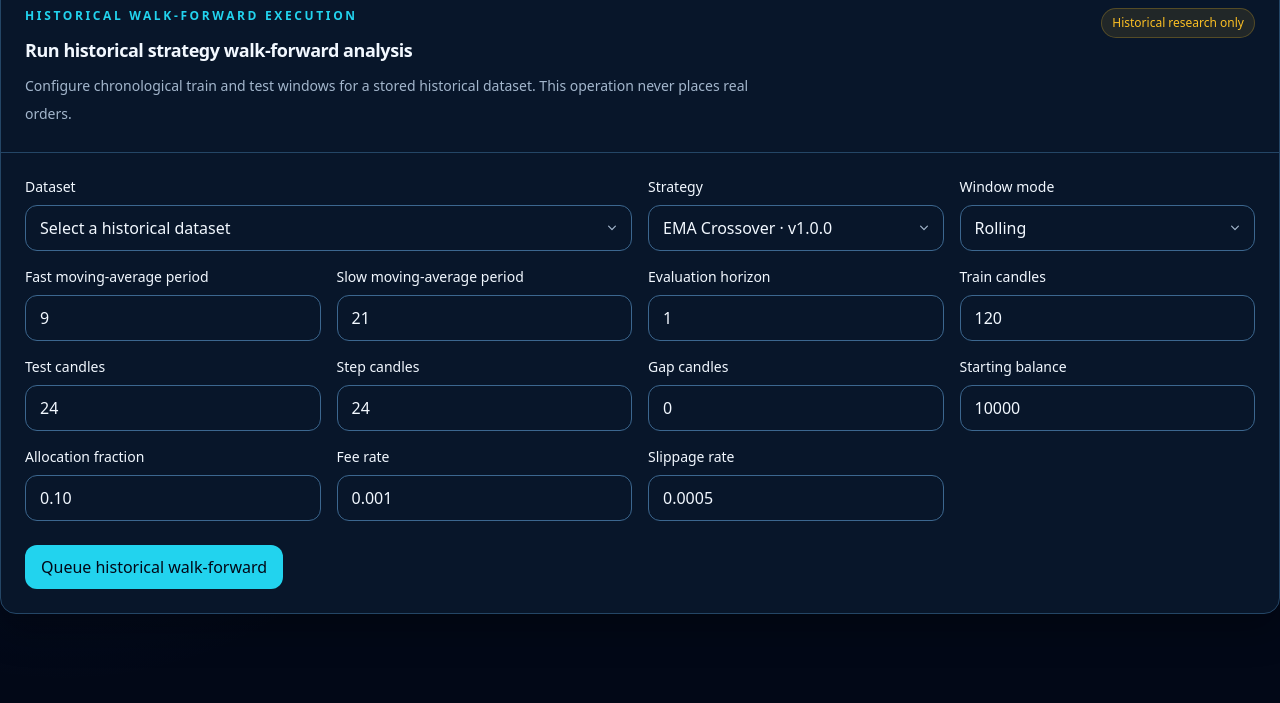
Scenario: WalkForwardRunForm › shows a safe message when the selected dataset no longer exists
Select "BTC historical dataset · BTC/USDT · 1h" in the dropdown labelled "Dataset" at (328, 228), box [25,205,632,251]
(page scrolled)
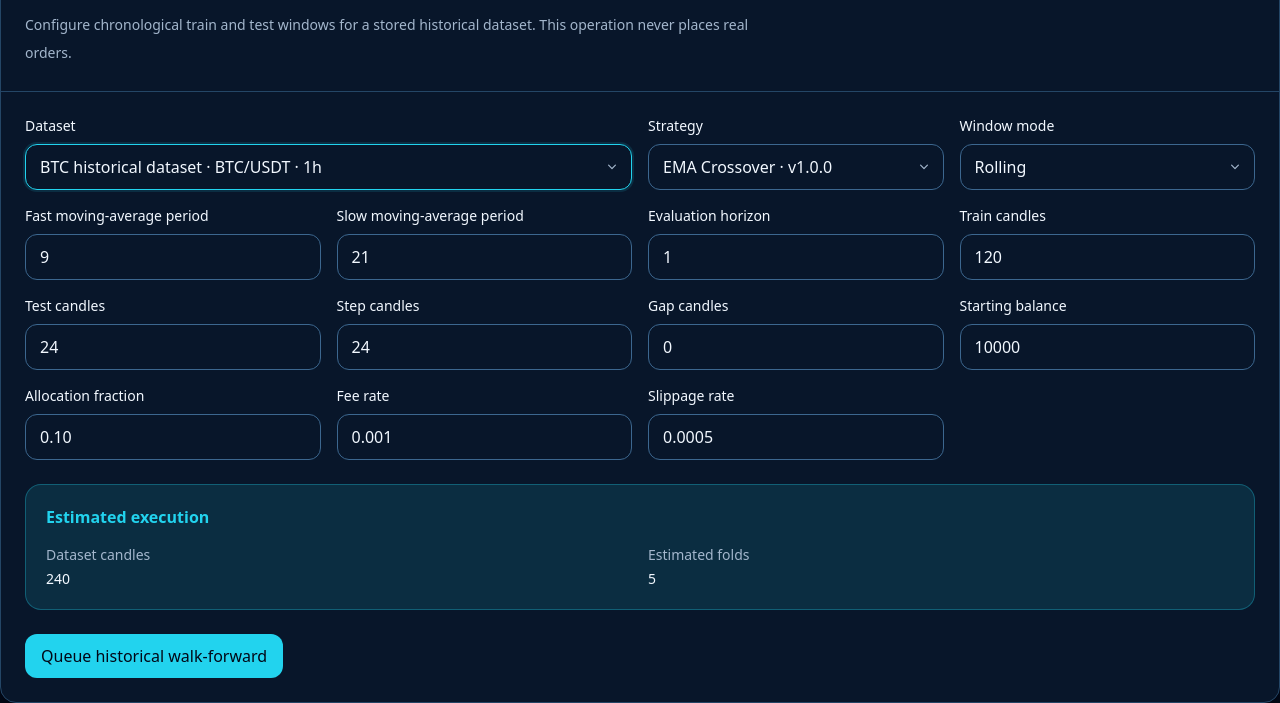
Click the button "Queue historical walk-forward" at (154, 656), box [25,634,283,678]
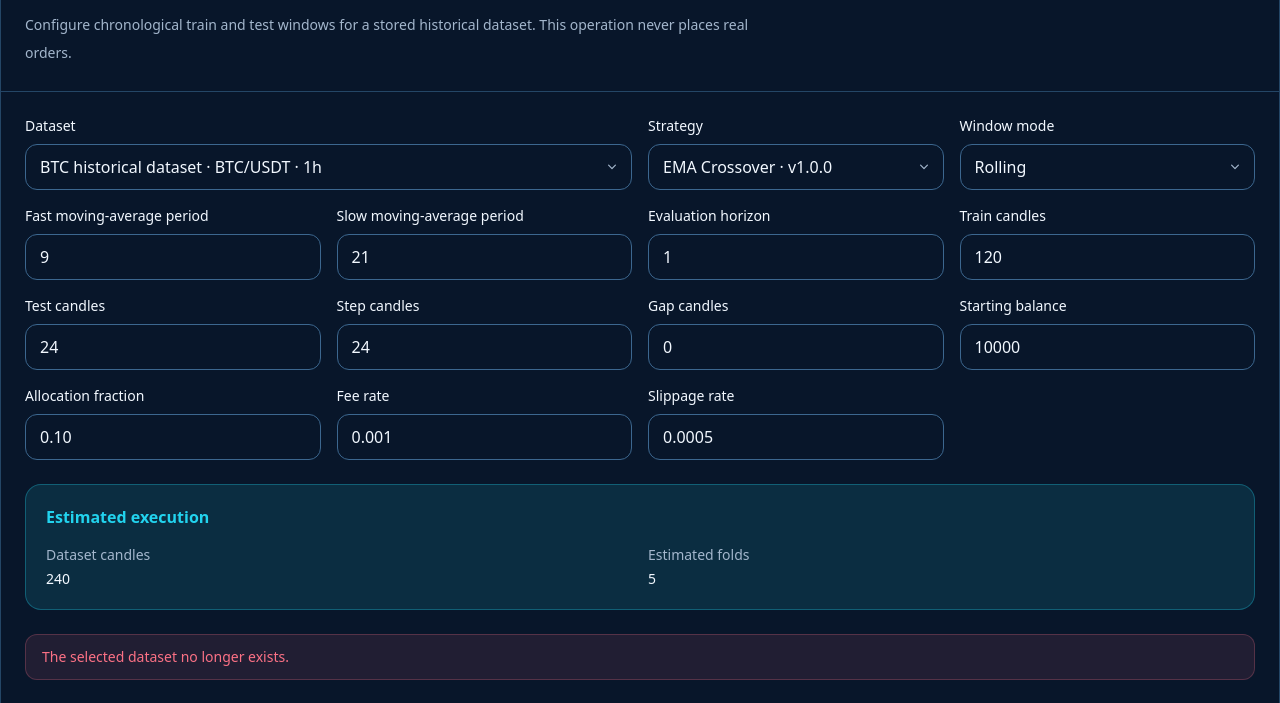
Now the text "The selected dataset no longer exists." is shown, box [25,634,1255,680]
